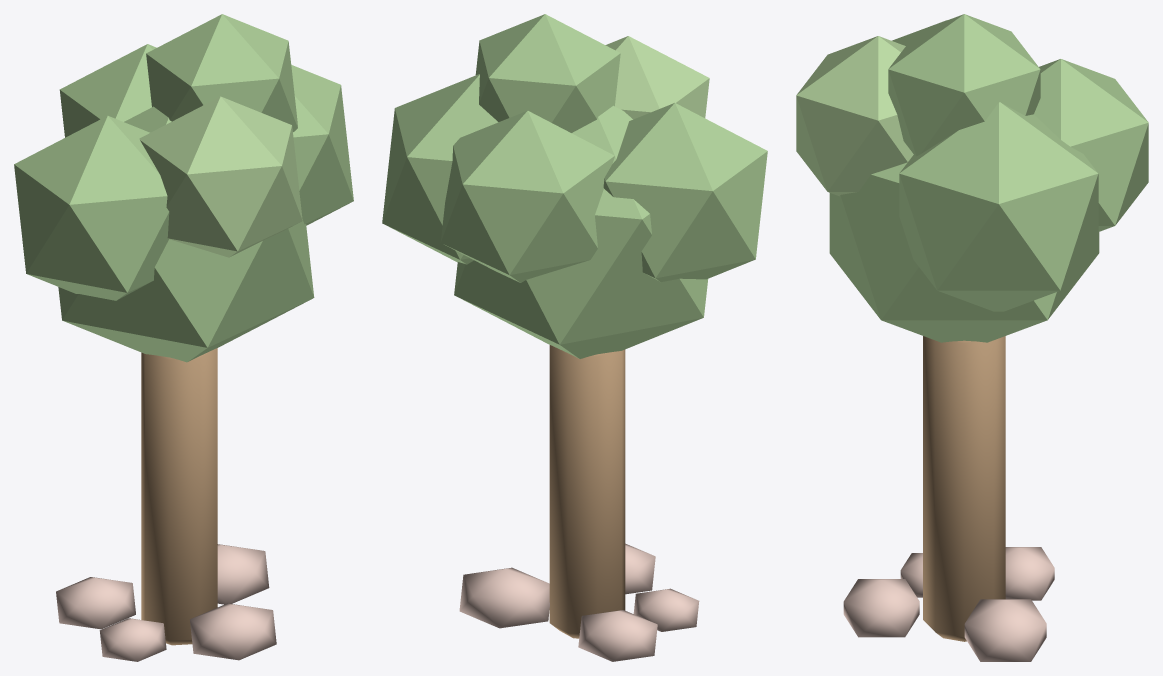
Rendered from tree.glb.
3 views of the same model, side by side, from view 1: azimuth 30°, elevation 25°; view 2: azimuth 150°, elevation 25°; view 3: azimuth 270°, elevation 25° (orthographic). The views are drawn at different scales.
Parts seen in each view (by area): view 1: tree; view 2: tree; view 3: tree.
Boxes of the visible parts, <box> form: tree: <box>14,14,353,661</box>; tree: <box>382,14,767,661</box>; tree: <box>796,14,1148,661</box>.
Bounding box in the file's own units: 1.19 × 2.04 × 1.02.
